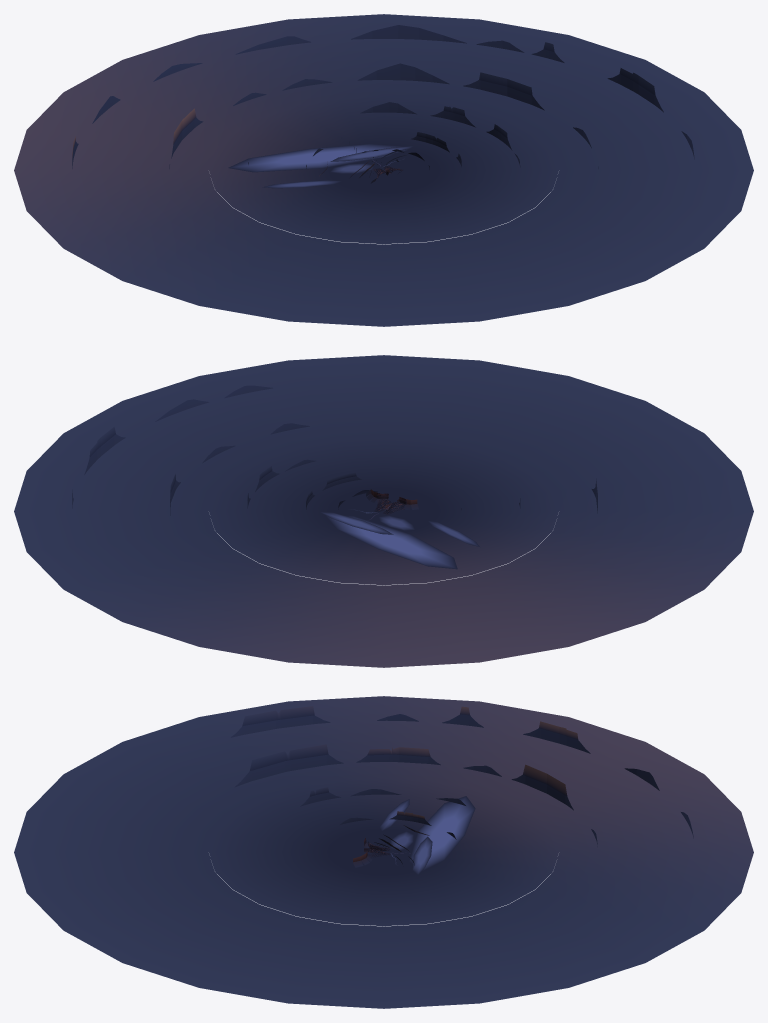
Rendered from env_backdrop_dusk.glb.
3 views of the same model, one above another, from view 1: azimuth 30°, elevation 25°; view 2: azimuth 150°, elevation 25°; view 3: azimuth 270°, elevation 25° (orthographic).
Parts seen in each view (by area): view 1: backdrop_dusk; view 2: backdrop_dusk; view 3: backdrop_dusk.
Boxes of the visible parts, x1,y1,x2,y2 form: backdrop_dusk: (14,14,753,326); backdrop_dusk: (14,355,753,667); backdrop_dusk: (14,696,753,1008).
Bounding box in the file's own units: 1900 × 60.95 × 1900.
